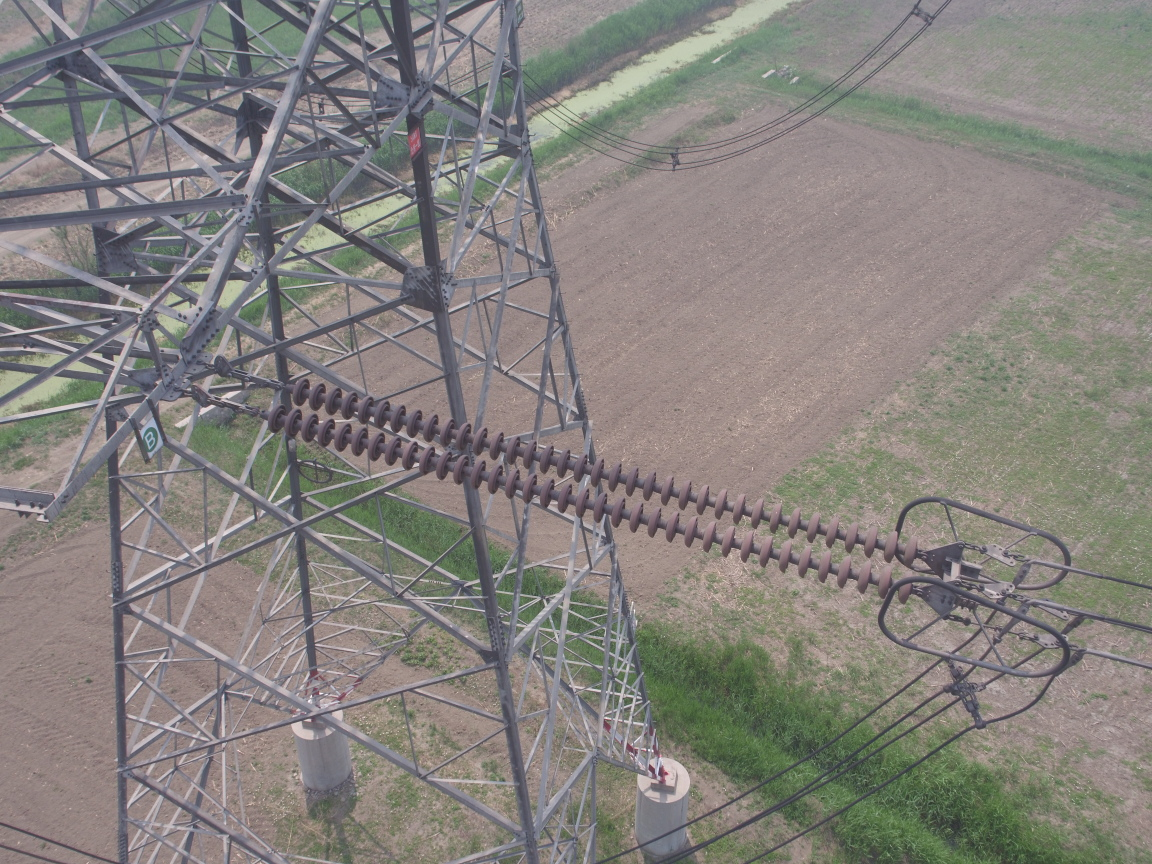insulator: (246, 375, 939, 608)
